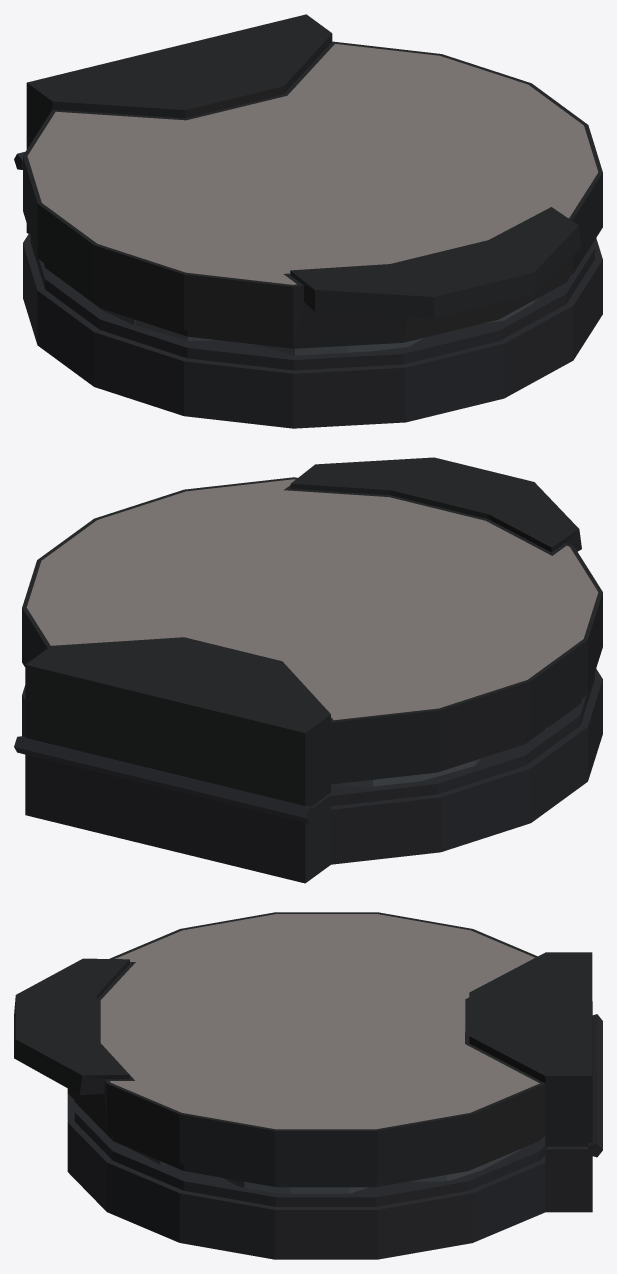
The model's file is wafflemakers_01_A.gltf.
3 renders of one model, top to bottom at view 1: azimuth 30°, elevation 25°; view 2: azimuth 150°, elevation 25°; view 3: azimuth 270°, elevation 25°, orthographic. The views are drawn at different scales.
Visible parts, largest first — view 1: Capforwafflemakers_01_A, wafflemakers_01_A; view 2: Capforwafflemakers_01_A, wafflemakers_01_A; view 3: Capforwafflemakers_01_A, wafflemakers_01_A.
Boxes of the visible parts, <box> form: Capforwafflemakers_01_A: <box>23,14,602,348</box>; wafflemakers_01_A: <box>14,152,602,428</box>; Capforwafflemakers_01_A: <box>22,457,602,806</box>; wafflemakers_01_A: <box>14,669,602,883</box>; Capforwafflemakers_01_A: <box>14,912,592,1187</box>; wafflemakers_01_A: <box>67,1014,602,1259</box>.
Bounding box in the file's own units: 0.2298 × 0.0668 × 0.2615.
Materials: 1 (1 with a texture image).
